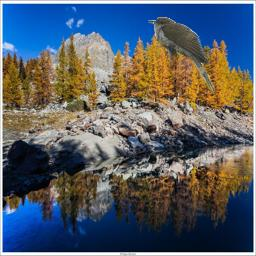Cuckoo: (148, 17, 215, 94)
